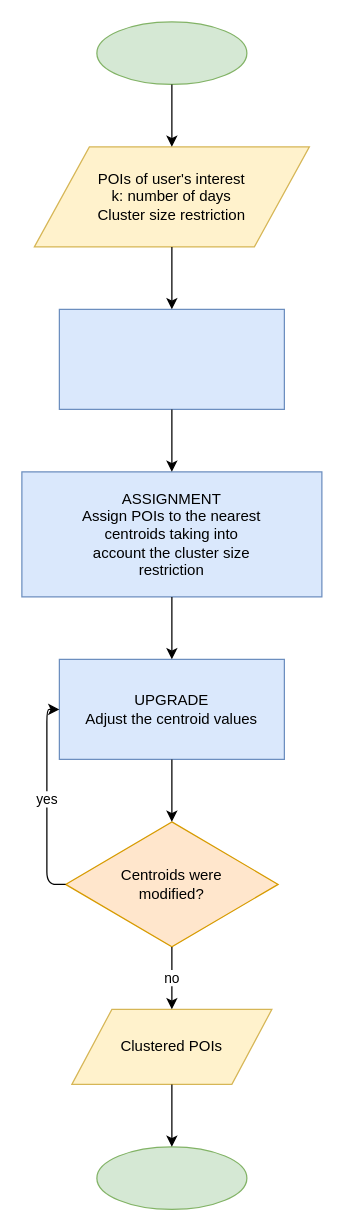
Image size: 344x1231. Some labels were removed from this diagram. Each missing label, with the box of its shape:
End: (96, 1146, 247, 1209)
INITIALIZATION Initialize k centroids: (58, 308, 284, 409)
Start: (96, 21, 247, 84)
